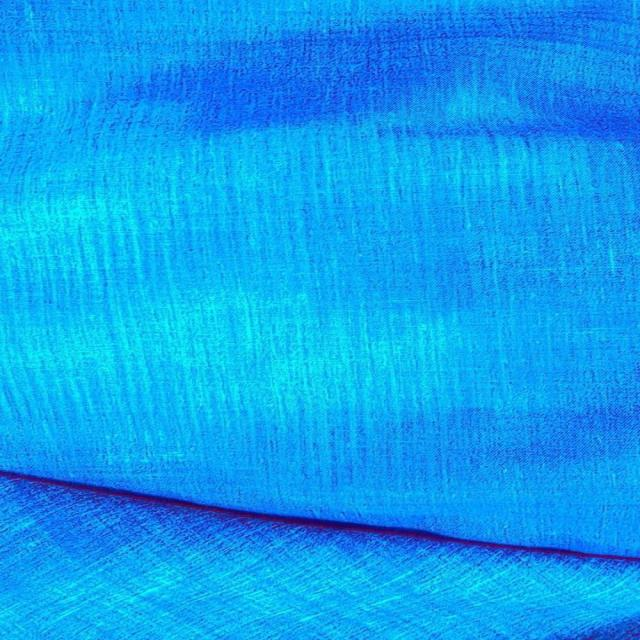baekra: (10, 388, 640, 628), (21, 1, 640, 171), (3, 214, 629, 310)
